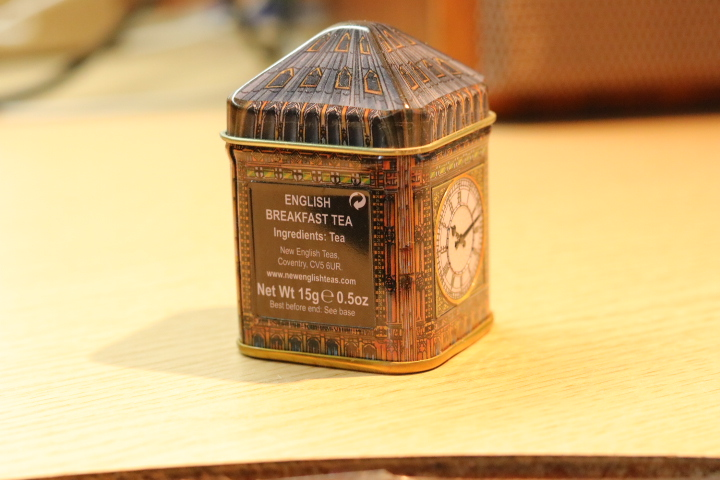Big Ben: (216, 16, 527, 384)
